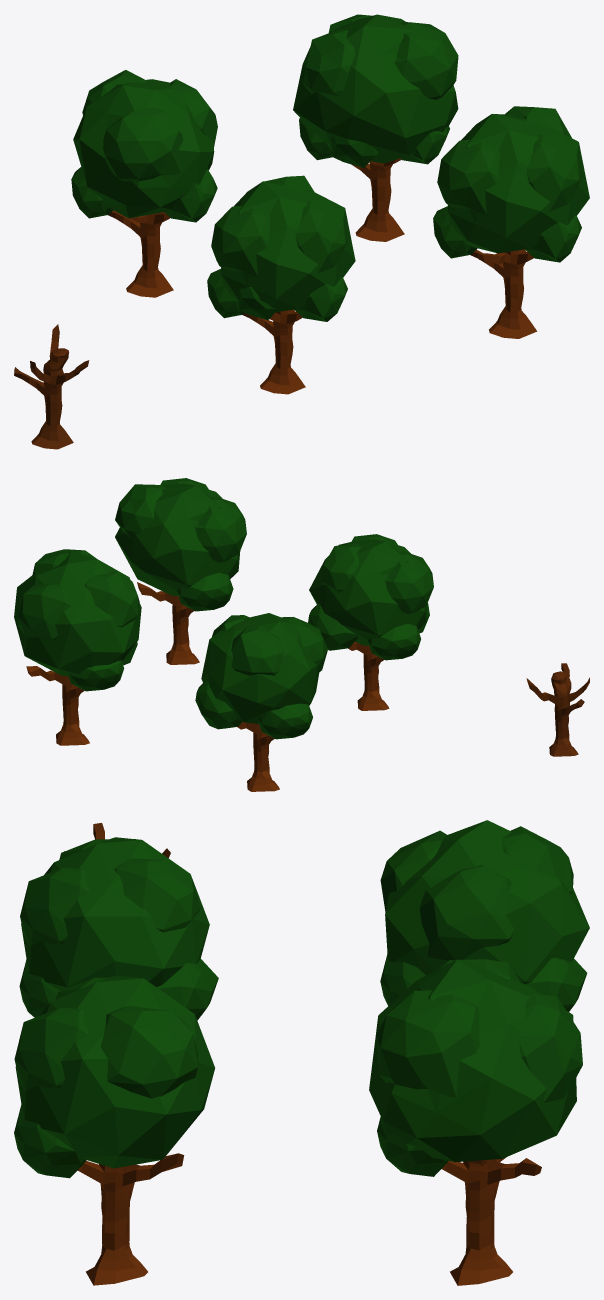
File: trees.fbx
3 views of the same model, one above another, from view 1: azimuth 30°, elevation 25°; view 2: azimuth 150°, elevation 25°; view 3: azimuth 270°, elevation 25° (orthographic). The views are drawn at different scales.
Parts seen in each view (by area): view 1: Tree3, Tree2, Tree4, Tree1, DeadTree; view 2: Tree3, Tree2, Tree4, Tree1, DeadTree; view 3: Tree3, Tree2, Tree4, Tree1.
Part boxes in pixels (box(x1,y1,x2,y2)): Tree3: box(293, 14, 458, 241); Tree2: box(433, 106, 589, 338); Tree4: box(71, 70, 217, 297); Tree1: box(207, 175, 355, 394); DeadTree: box(14, 324, 89, 449); Tree3: box(14, 549, 141, 745); Tree2: box(115, 478, 246, 664); Tree4: box(195, 613, 327, 791); Tree1: box(308, 534, 433, 710); DeadTree: box(526, 663, 589, 756); Tree3: box(369, 959, 582, 1285); Tree2: box(14, 975, 214, 1285); Tree4: box(380, 820, 589, 1011); Tree1: box(19, 837, 218, 1020).
Size of the model in its own units: 484224 by 181438 by 316024.
